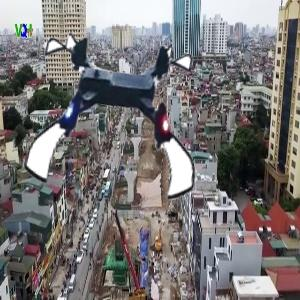drone: (32, 32, 208, 208)
